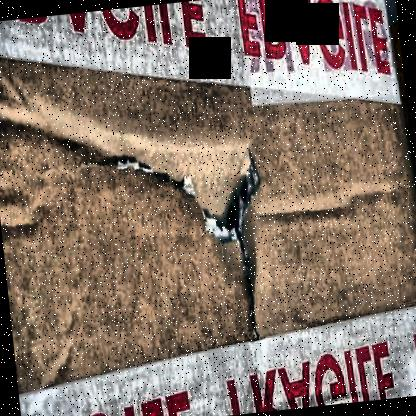defect parcel: (92, 81, 293, 378)
